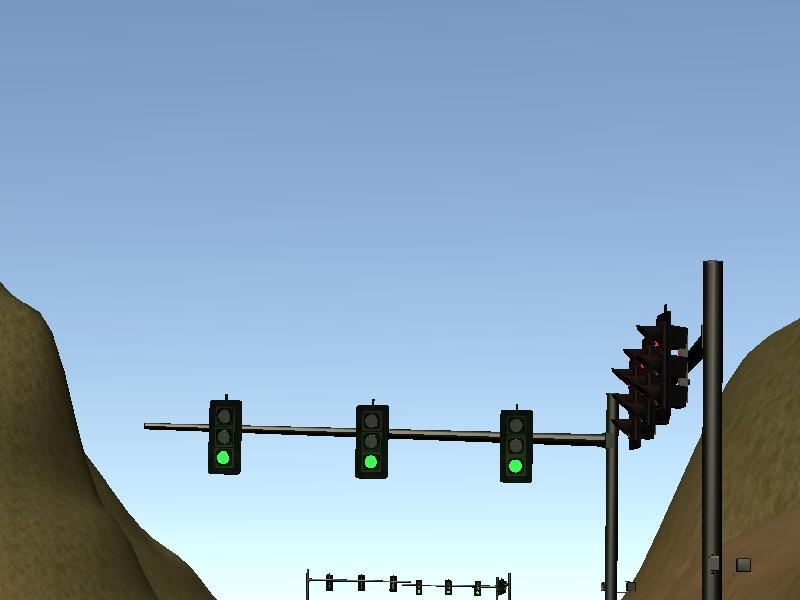GREEN: (497, 410, 534, 484), (354, 408, 389, 482), (208, 402, 241, 476)
